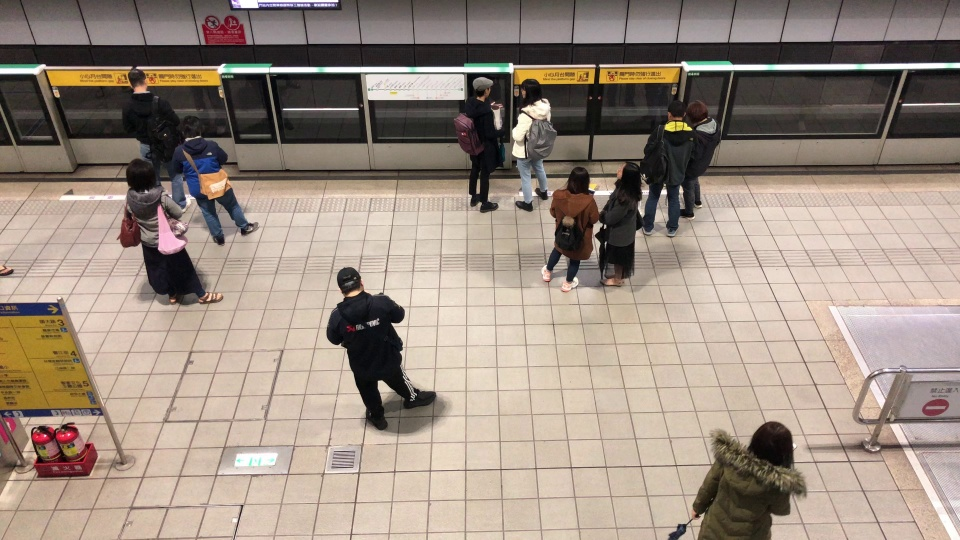person_head: (751, 419, 796, 475), (125, 157, 157, 191), (336, 266, 365, 296), (614, 159, 641, 184), (567, 165, 591, 193), (180, 114, 204, 141), (685, 99, 709, 124), (471, 76, 494, 102), (520, 77, 542, 102), (127, 68, 149, 91), (666, 100, 687, 121)
person_vbox: (325, 266, 436, 430), (113, 158, 223, 307), (684, 416, 808, 540), (171, 114, 260, 246), (120, 68, 191, 215), (641, 101, 700, 237), (539, 165, 600, 292), (453, 76, 506, 212), (592, 162, 645, 287), (509, 77, 558, 211), (678, 99, 722, 219)
